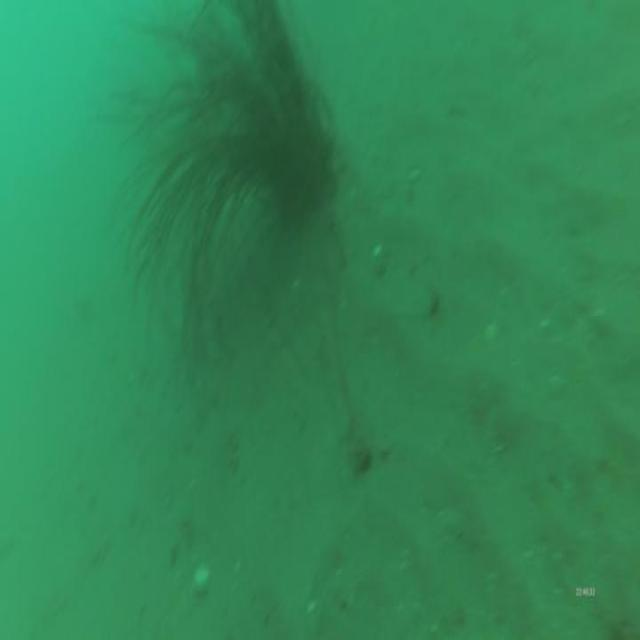waterweeds: (95, 0, 337, 373)
